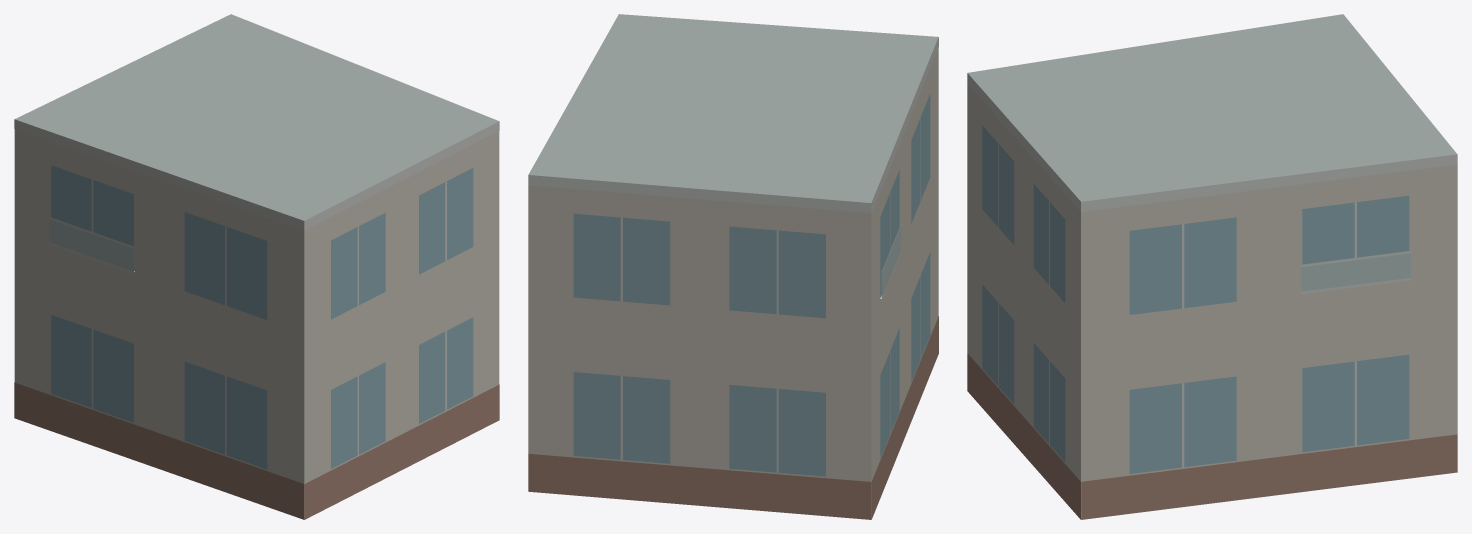
Rendered from survey-upis-32674316.glb.
The picture shows the model from 3 angles, left to right: view 1: azimuth 30°, elevation 25°; view 2: azimuth 150°, elevation 25°; view 3: azimuth 270°, elevation 25°; orthographic projection. The views are drawn at different scales.
Visible parts, largest first — view 1: survey-upis-32674316.tmp; view 2: survey-upis-32674316.tmp; view 3: survey-upis-32674316.tmp.
Part boxes in pixels (bbox=[...]): survey-upis-32674316.tmp: bbox=[14, 14, 499, 519]; survey-upis-32674316.tmp: bbox=[528, 14, 938, 519]; survey-upis-32674316.tmp: bbox=[967, 14, 1457, 519].
Size of the model in its own units: 9.63 by 7.6 by 10.63.
